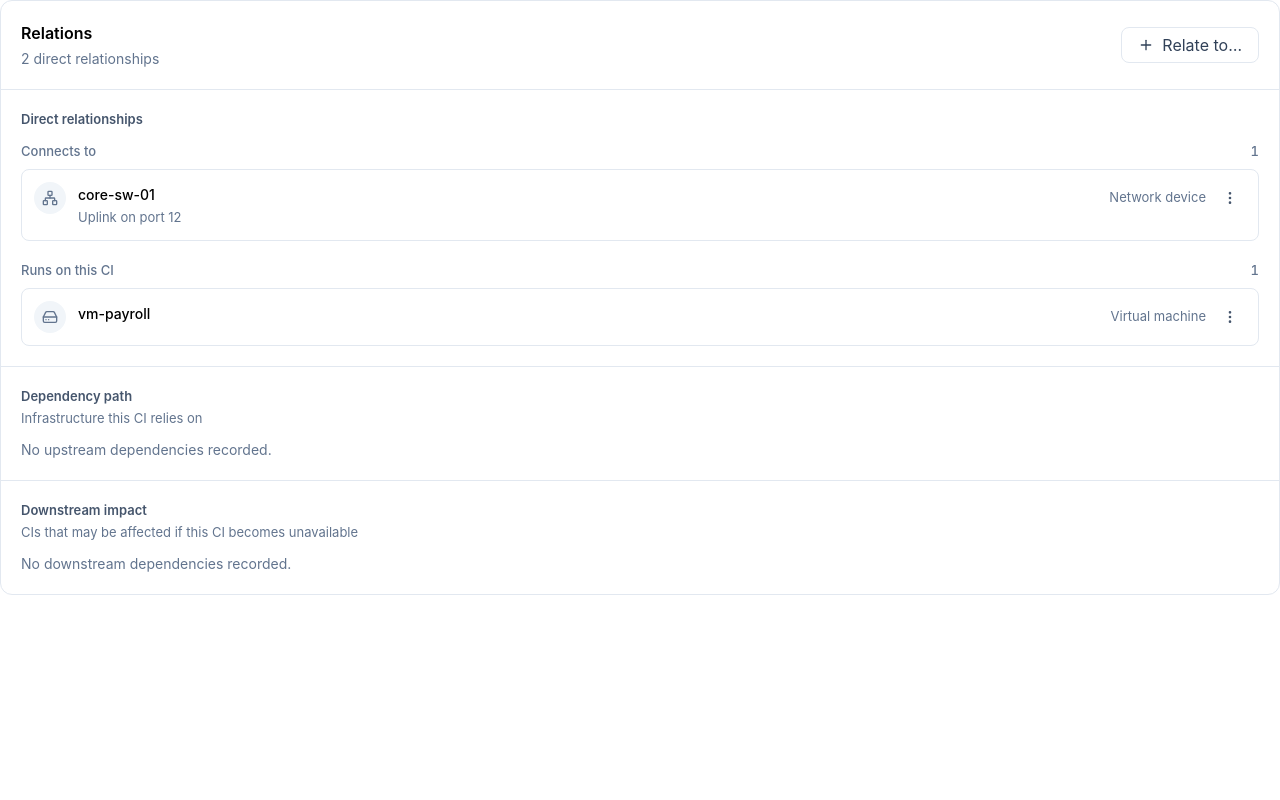
Scenario: CiRelationsGraph write surface › shows a self-relation 400 as an inline error beside the chosen CI and stays open
The width and height of the screenshot is (1280, 800).
Step 1. Click the button "Relate to…" → (1190, 45), box [1121,27,1259,63]
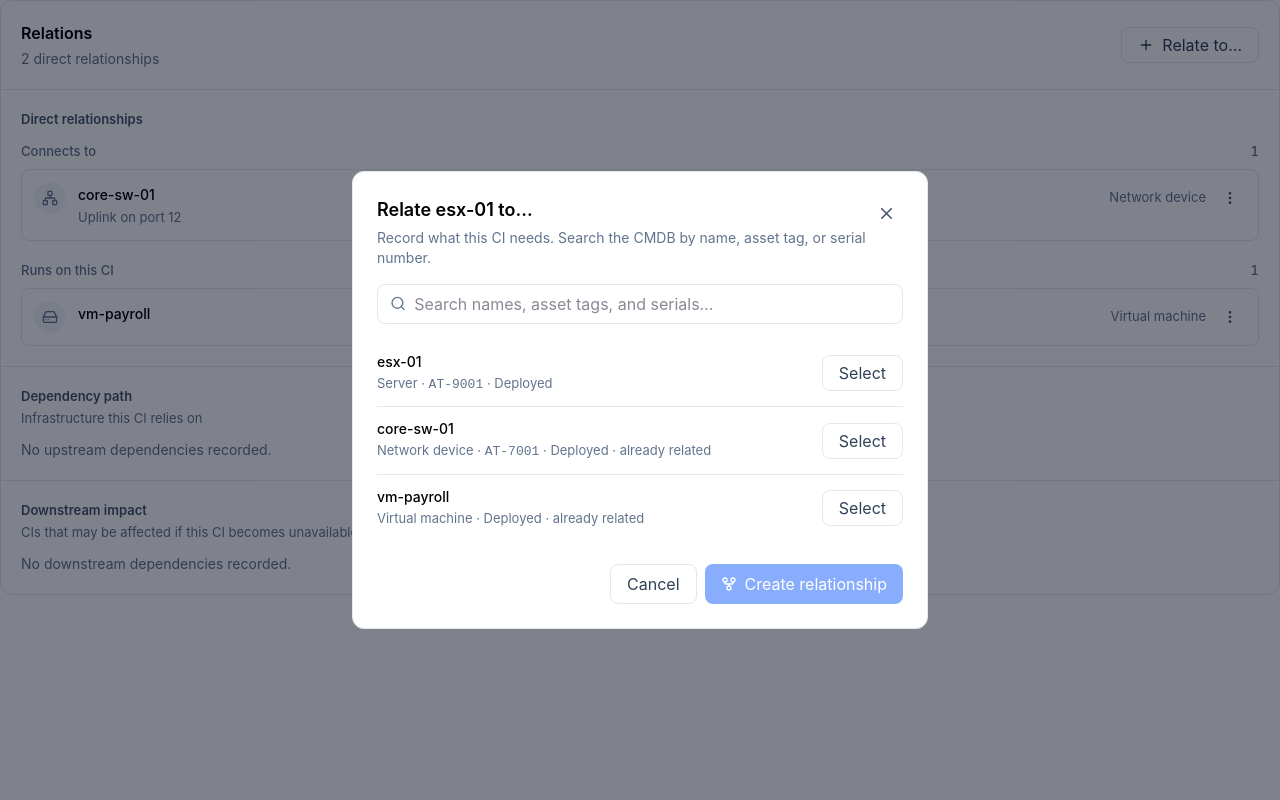
Step 2. Click the button "Select" in the row of "Server" → (862, 373), box [822,355,903,391]
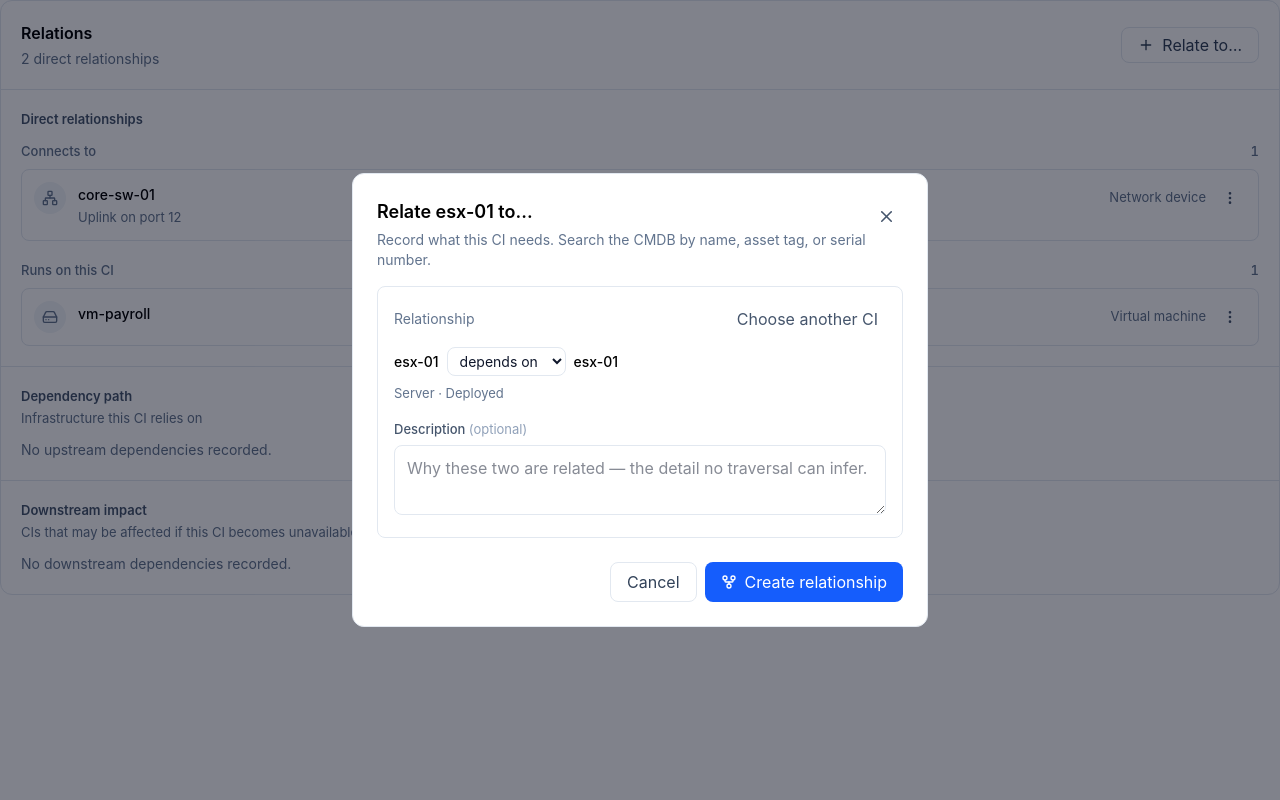
Step 3. Click the button "Create relationship" → (804, 582), box [704,562,903,602]
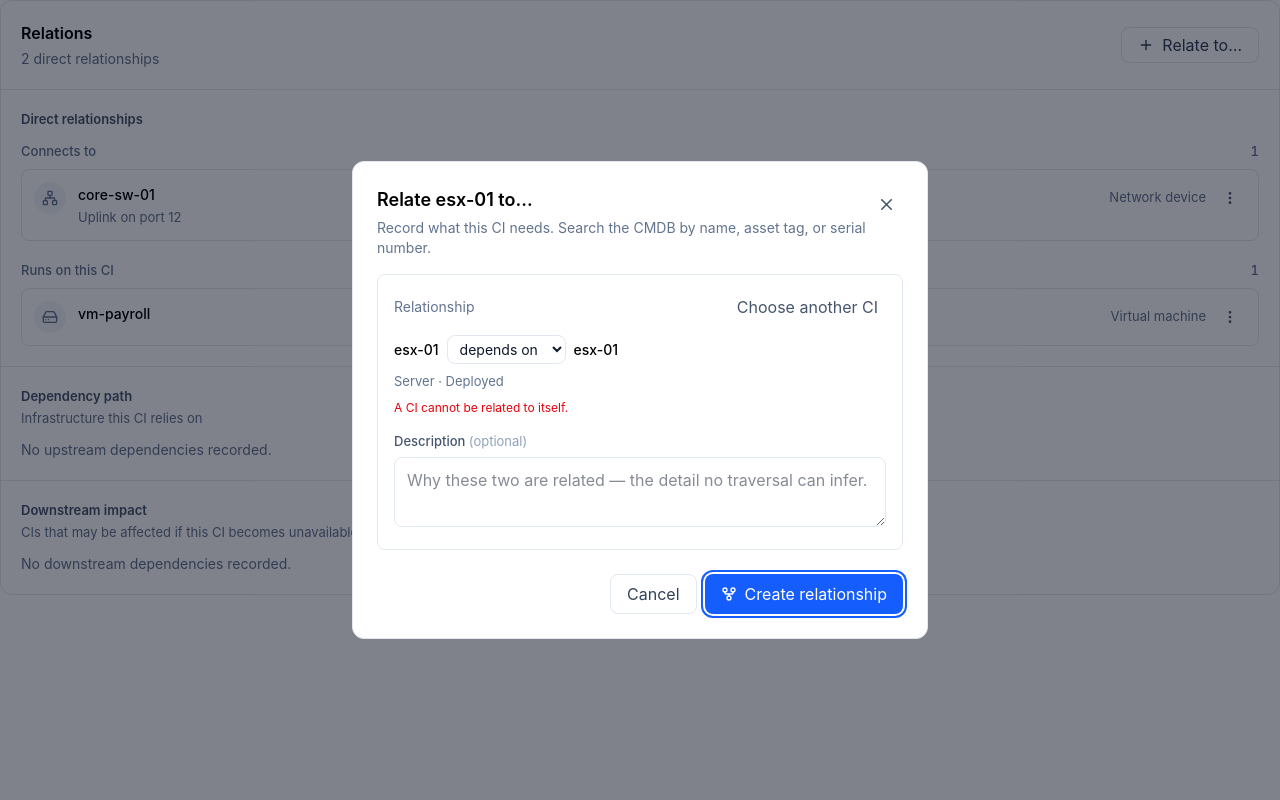
Check: the dialog is shown, box [352,161,928,639]
Check: the message reads "A CI cannot be related to itself.", box [394,400,568,414]
